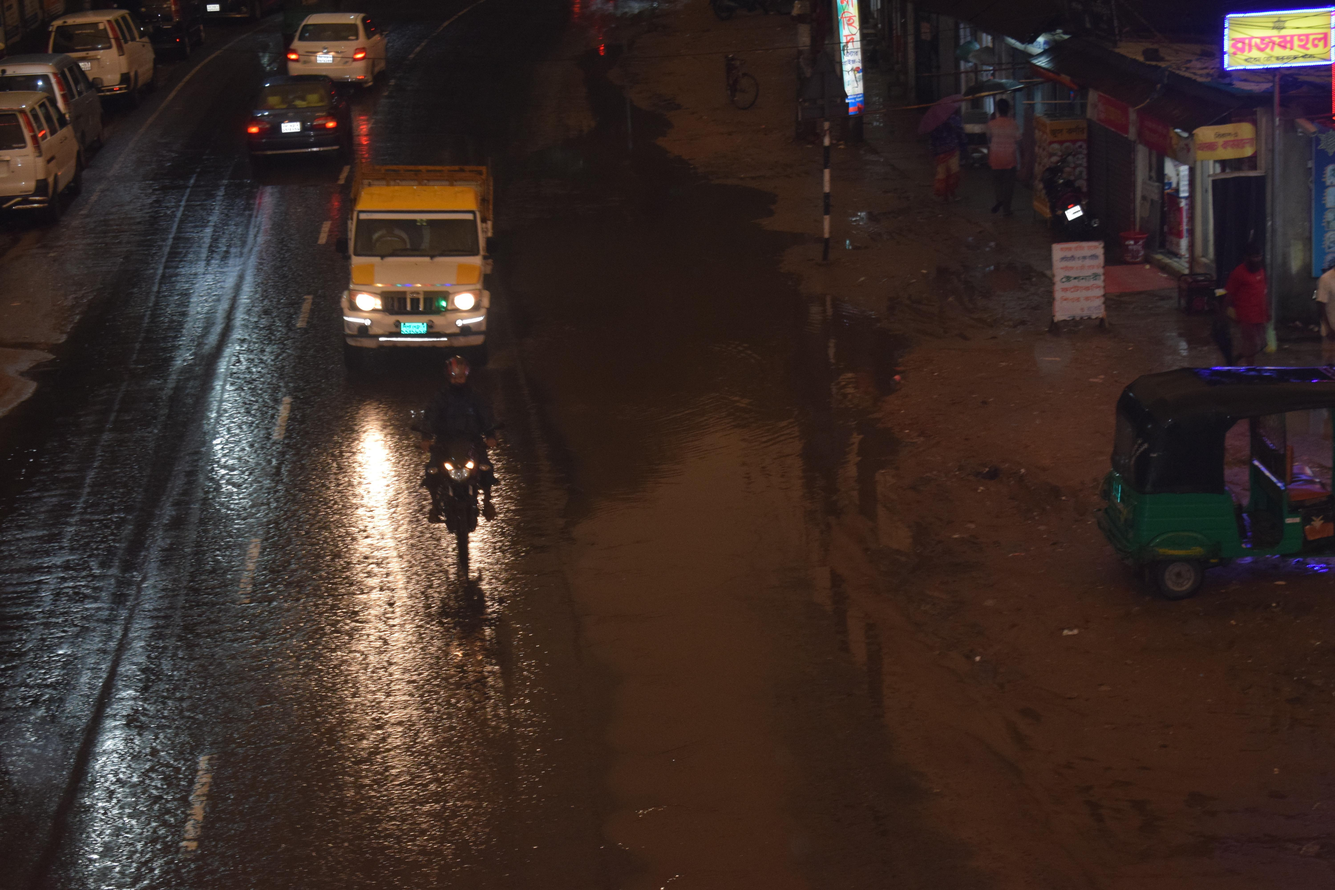Bike: (366, 335, 535, 580)
Car: (218, 46, 380, 192), (0, 72, 109, 238), (263, 0, 406, 110), (39, 0, 179, 107), (0, 50, 121, 158)
Truck: (317, 136, 519, 392)
